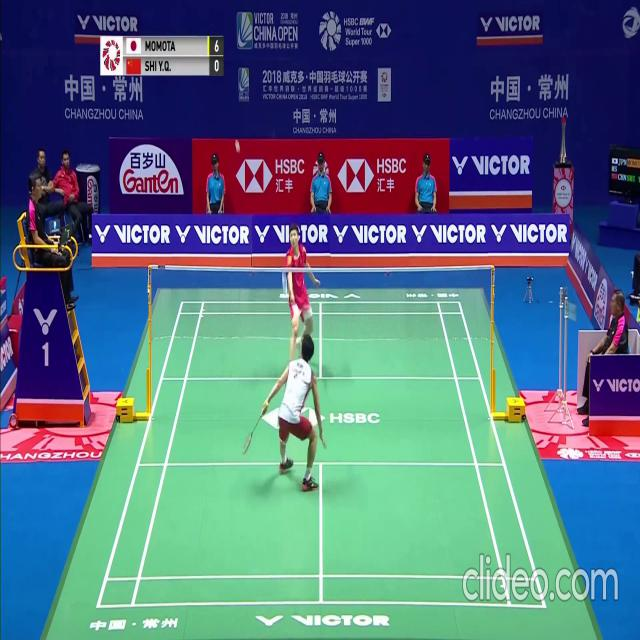Shuttlecock: (234, 140, 239, 148)
